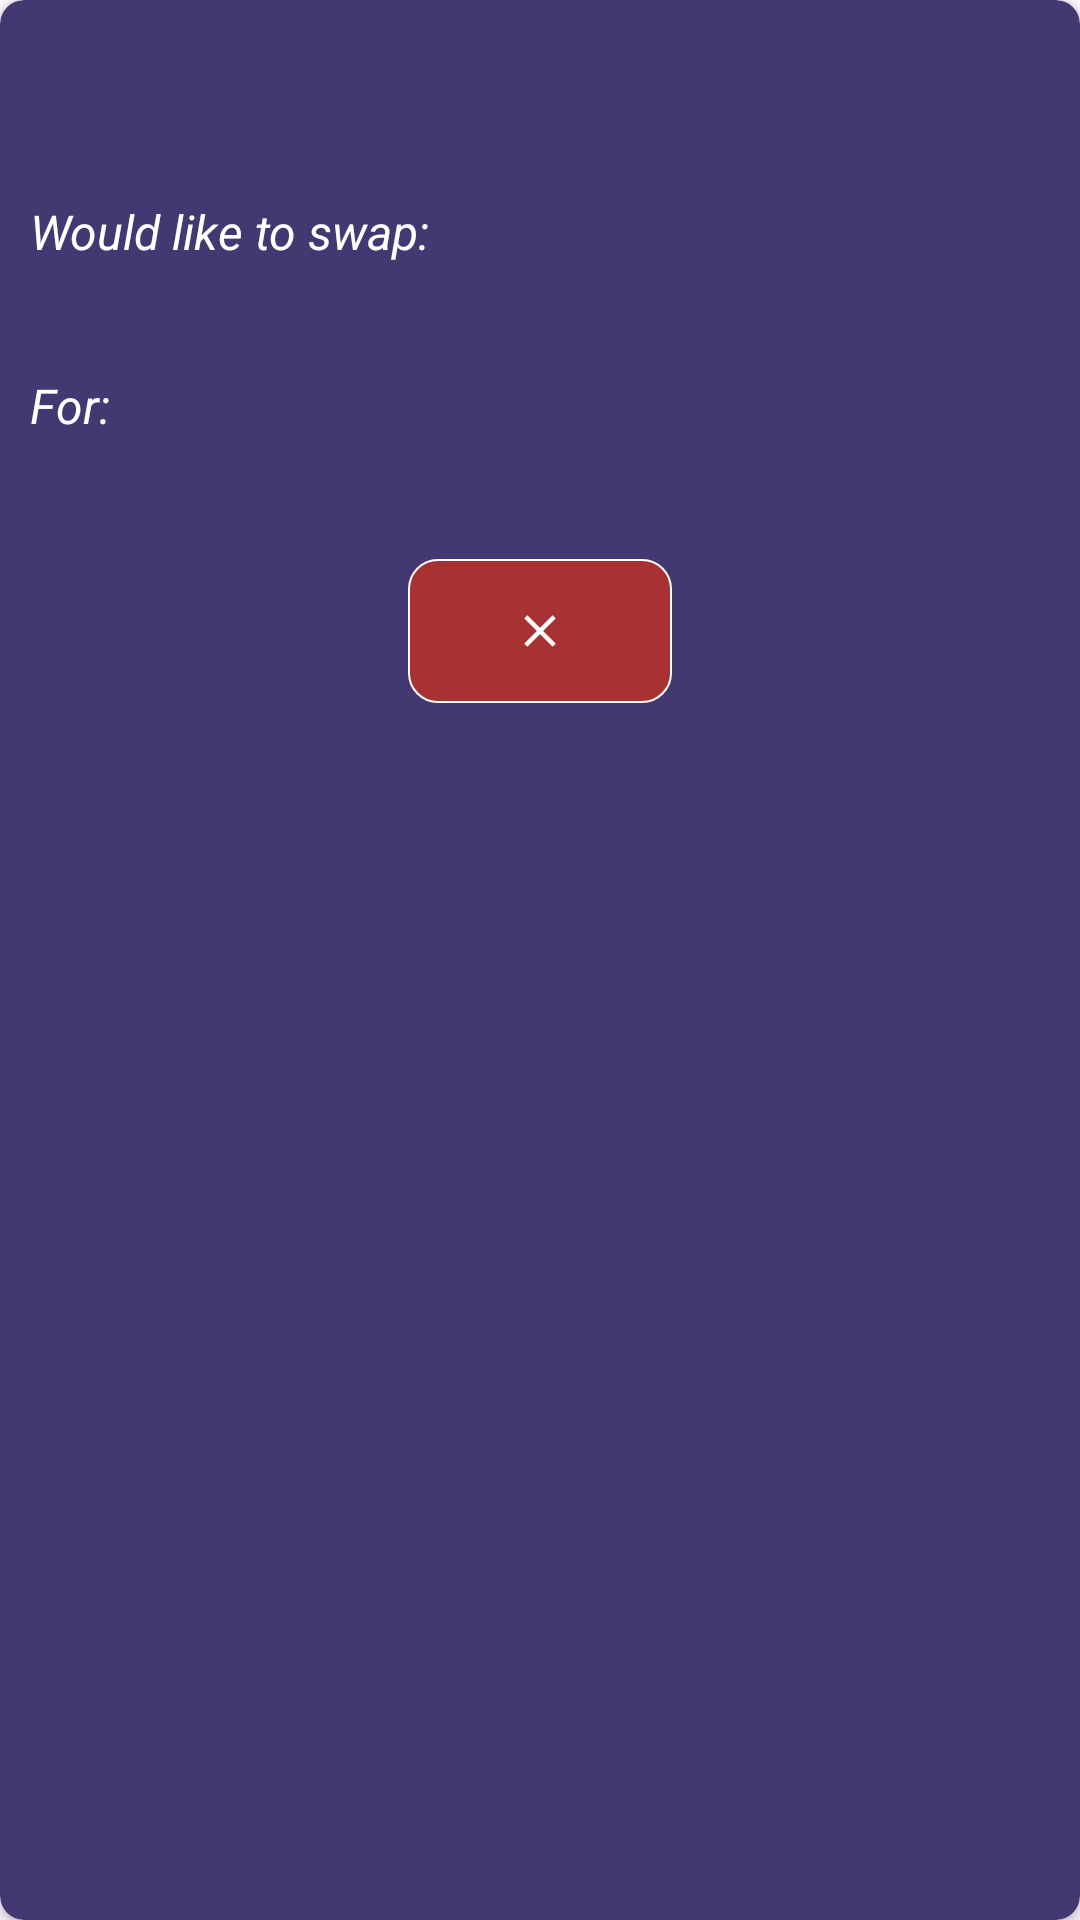

Point at icon controls on the screen. Image size 1080×1920, points as (x,y).
decline: (540,631)
